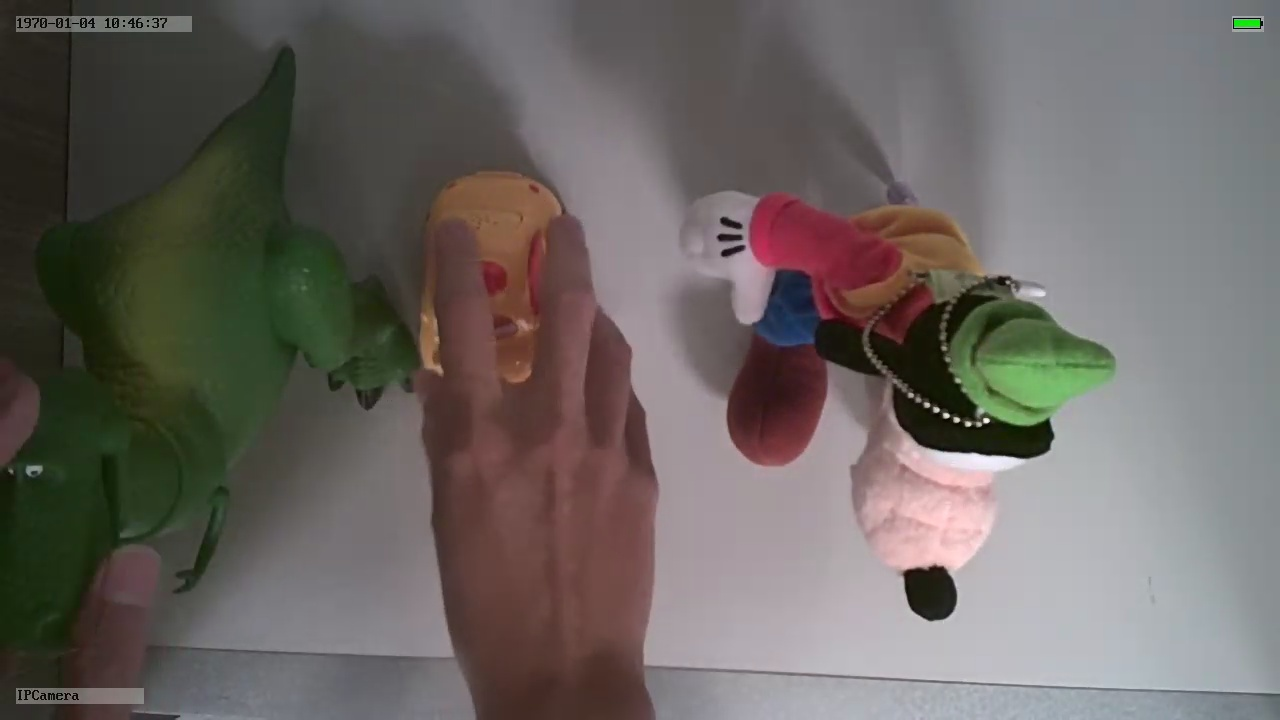goofy: (679, 187, 1120, 622)
